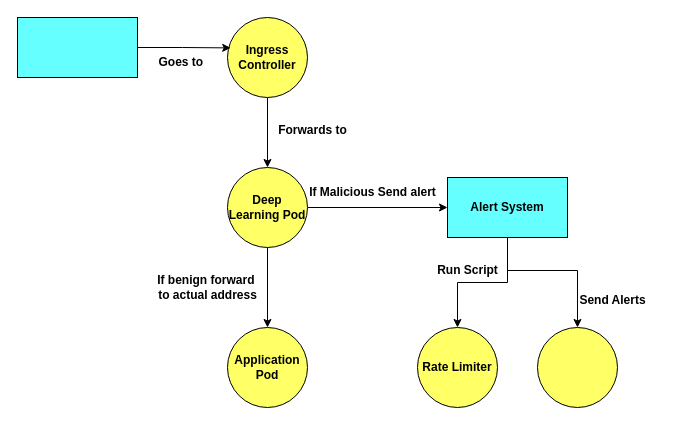
Image size: 675x425. Some labels were removed from this diagram. Here are the shapes that lost their labels. From the top down, the box of each, then its label:
(16, 16, 138, 78): User Traffic
(536, 326, 618, 408): Android App
